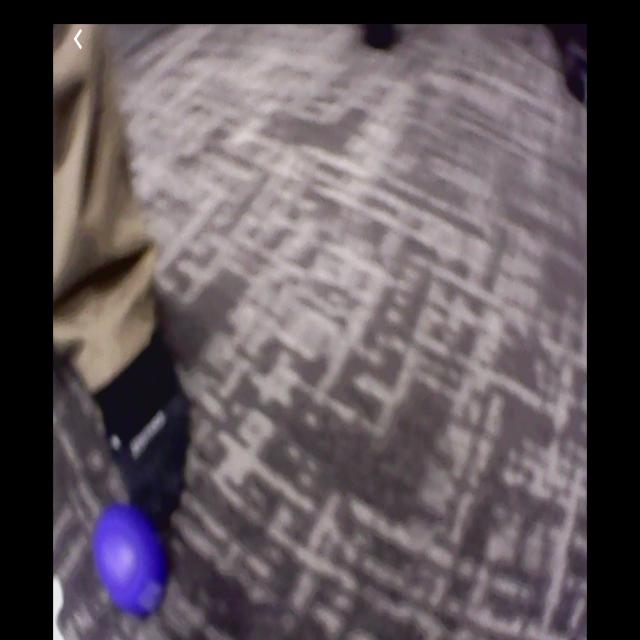ball: (97, 505, 168, 613)
